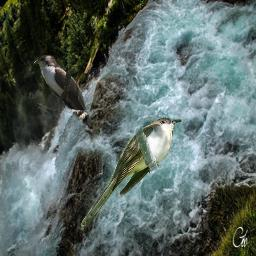Cuckoo: (79, 116, 182, 231), (34, 55, 101, 143)
